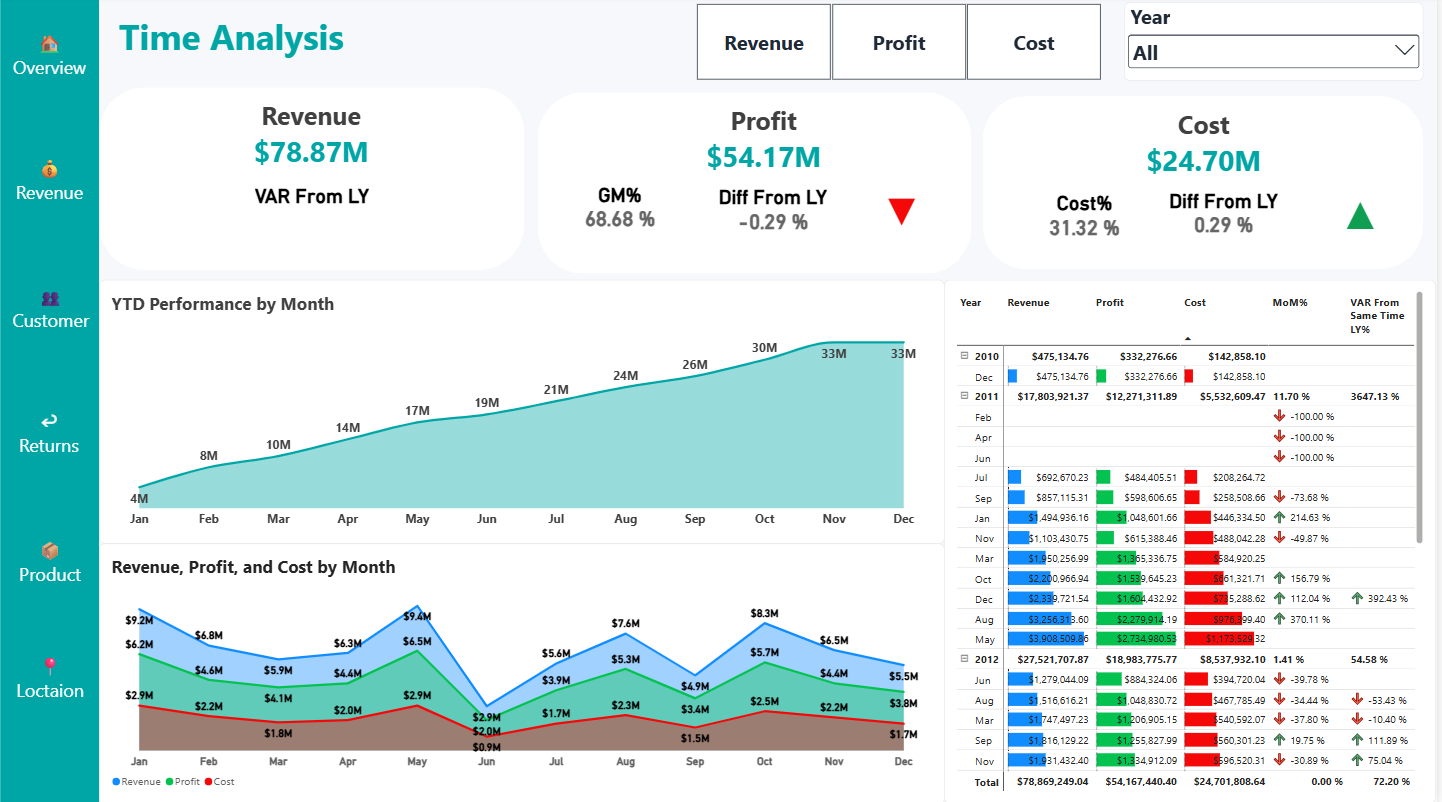

Layout of this report page (visuals, bound fields, positions):
{"tool":"powerbi","page":{"name":"⏱   Time Analysis","canvas":[1920,1080],"ordinal":4},"visuals":[{"type":"shape","box":[1313.8,133.9,588.1,231.6],"z":0},{"type":"shape","box":[720.2,128.5,579.1,242.5],"z":1000},{"type":"shape","box":[133.9,121.2,568.2,244.3],"z":2000},{"type":"cardVisual","fields":{"Data":["Calcultaions.Revenue ShowVar"]},"box":[247.9,237.1,342,99.5],"z":3000},{"type":"cardVisual","fields":{"Data":["Calcultaions.Revenue"]},"box":[226.2,121.2,383.6,114],"z":4000},{"type":"cardVisual","fields":{"Data":["Calcultaions.Revenue Arrow"]},"box":[519.4,235.3,150,100],"z":5000},{"type":"cardVisual","fields":{"Data":["Calcultaions.Cost%"]},"box":[1351.9,247.9,195.4,99.5],"z":6000},{"type":"cardVisual","fields":{"Data":["Calcultaions.Profit"]},"box":[830.6,128.5,383.6,115.8],"z":7000},{"type":"cardVisual","fields":{"Data":["Calcultaions.Cost"]},"box":[1417,133.9,383.6,105],"z":8000},{"type":"cardVisual","fields":{"Data":["Calcultaions.GM% Arrow"]},"box":[1131,241.6,150,100],"z":9000},{"type":"slicer","fields":{"Values":["Date Table.Year"]},"box":[1502,9,400,105],"z":10000},{"type":"areaChart","fields":{"Category":["Date Table.Month Name"],"Y":["Time Analysis.YTD"]},"box":[133.9,378.2,1129.2,352.9],"z":11000},{"type":"slicer","fields":{"Values":["Parameter.Parameter"]},"box":[912.1,9,579.1,105],"z":12000},{"type":"lineChart","fields":{"Category":["Date Table.Month Name"],"Y":["Calcultaions.Revenue","Calcultaions.Profit","Calcultaions.Cost"]},"box":[133.9,731.1,1129.2,349.3],"z":13000},{"type":"textbox","box":[161.1,21.7,716.6,99.5],"z":14000},{"type":"shape","box":[1.8,0,132.1,1078.6],"z":15000},{"type":"cardVisual","fields":{"Data":["Calcultaions.Cost% VAR"]},"box":[1543.7,243.5,186.4,99.5],"z":16000},{"type":"cardVisual","fields":{"Data":["Calcultaions.Cost% Arrow"]},"box":[1742.7,247.9,150,100],"z":17000},{"type":"actionButton","title":"🏠Overview","box":[5.4,34.4,124.9,90.5],"z":18000},{"type":"actionButton","title":"🏠Overview","box":[5.4,202.7,124.9,90.5],"z":19000},{"type":"actionButton","title":"🏠Overview","box":[5.4,372.8,128.5,90.5],"z":20000},{"type":"actionButton","title":"🏠Overview","box":[7.2,711.2,123.1,90.5],"z":21000},{"type":"actionButton","title":"🏠Overview","box":[7.2,866.8,123.1,90.5],"z":22000},{"type":"actionButton","title":"🏠Overview","box":[3.6,539.3,126.7,90.5],"z":23000},{"type":"pivotTable","fields":{"Rows":["Date Table.Year","Date Table.Month Name"],"Values":["Calcultaions.Revenue","Calcultaions.Profit","Calcultaions.Cost","Time Analysis.MoM%","Time Analysis.VAR From Same Time LY"]},"box":[1263.1,378.2,656.9,700.3],"z":24000},{"type":"cardVisual","fields":{"Data":["Calcultaions.GM%"]},"box":[745.6,235.3,166.5,99.5],"z":25000},{"type":"cardVisual","fields":{"Data":["Calcultaions.GM% VAR"]},"box":[939.2,238.9,191.8,99.5],"z":26000}]}

Visuals, with their boxes on the page's 1920x1080 design canvas (x1, y1, x2, y2). These are canvas units, not pixel positions in the 1442x802 screenshot, which may show the page scaled, cropped or inside an application window:
shape: {"x1": 1314, "y1": 134, "x2": 1902, "y2": 366}
shape: {"x1": 720, "y1": 128, "x2": 1299, "y2": 371}
shape: {"x1": 134, "y1": 121, "x2": 702, "y2": 366}
cardVisual - Calcultaions.Revenue ShowVar: {"x1": 248, "y1": 237, "x2": 590, "y2": 337}
cardVisual - Calcultaions.Revenue: {"x1": 226, "y1": 121, "x2": 610, "y2": 235}
cardVisual - Calcultaions.Revenue Arrow: {"x1": 519, "y1": 235, "x2": 669, "y2": 335}
cardVisual - Calcultaions.Cost%: {"x1": 1352, "y1": 248, "x2": 1547, "y2": 347}
cardVisual - Calcultaions.Profit: {"x1": 831, "y1": 128, "x2": 1214, "y2": 244}
cardVisual - Calcultaions.Cost: {"x1": 1417, "y1": 134, "x2": 1801, "y2": 239}
cardVisual - Calcultaions.GM% Arrow: {"x1": 1131, "y1": 242, "x2": 1281, "y2": 342}
slicer - Date Table.Year: {"x1": 1502, "y1": 9, "x2": 1902, "y2": 114}
areaChart - Date Table.Month Name x Time Analysis.YTD: {"x1": 134, "y1": 378, "x2": 1263, "y2": 731}
slicer - Parameter.Parameter: {"x1": 912, "y1": 9, "x2": 1491, "y2": 114}
lineChart - Date Table.Month Name x Calcultaions.Revenue: {"x1": 134, "y1": 731, "x2": 1263, "y2": 1080}
textbox: {"x1": 161, "y1": 22, "x2": 878, "y2": 121}
shape: {"x1": 2, "y1": 0, "x2": 134, "y2": 1079}
cardVisual - Calcultaions.Cost% VAR: {"x1": 1544, "y1": 244, "x2": 1730, "y2": 343}
cardVisual - Calcultaions.Cost% Arrow: {"x1": 1743, "y1": 248, "x2": 1893, "y2": 348}
"🏠Overview" actionButton: {"x1": 5, "y1": 34, "x2": 130, "y2": 125}
"🏠Overview" actionButton: {"x1": 5, "y1": 203, "x2": 130, "y2": 293}
"🏠Overview" actionButton: {"x1": 5, "y1": 373, "x2": 134, "y2": 463}
"🏠Overview" actionButton: {"x1": 7, "y1": 711, "x2": 130, "y2": 802}
"🏠Overview" actionButton: {"x1": 7, "y1": 867, "x2": 130, "y2": 957}
"🏠Overview" actionButton: {"x1": 4, "y1": 539, "x2": 130, "y2": 630}
pivotTable - Date Table.Year x Date Table.Month Name: {"x1": 1263, "y1": 378, "x2": 1920, "y2": 1078}
cardVisual - Calcultaions.GM%: {"x1": 746, "y1": 235, "x2": 912, "y2": 335}
cardVisual - Calcultaions.GM% VAR: {"x1": 939, "y1": 239, "x2": 1131, "y2": 338}
